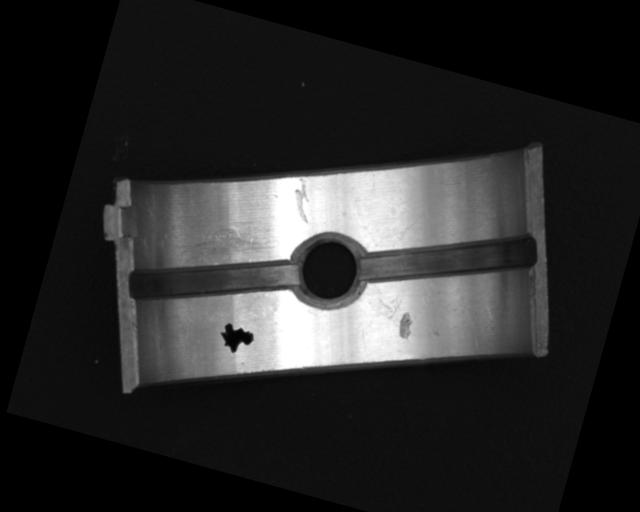blot: (216, 321, 257, 358)
bruise: (395, 310, 417, 341)
gap: (355, 196, 539, 322), (126, 225, 299, 339)
hole: (284, 229, 367, 313)
nick: (286, 175, 320, 224)
scratch: (173, 211, 276, 283)
